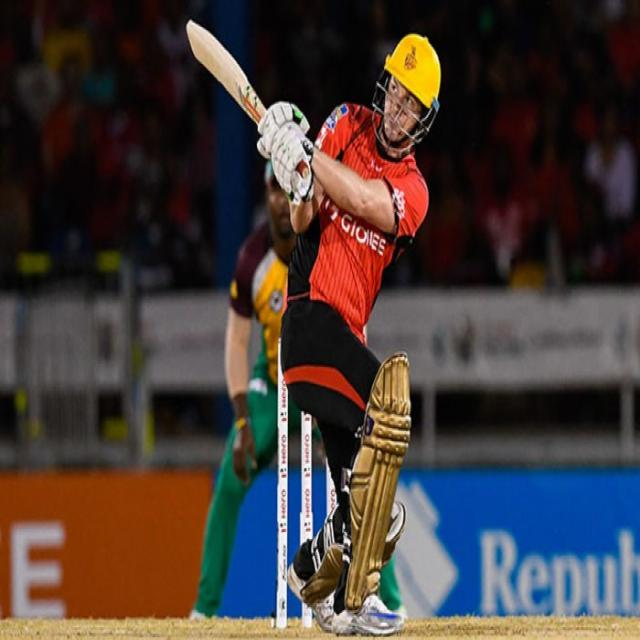stump: (293, 406, 339, 550), (275, 339, 293, 630), (299, 602, 312, 631)
